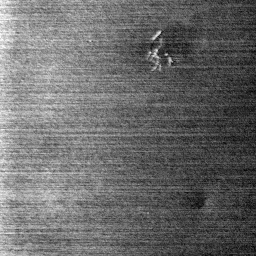con: (138, 27, 182, 73)
dent: (188, 187, 212, 214)
